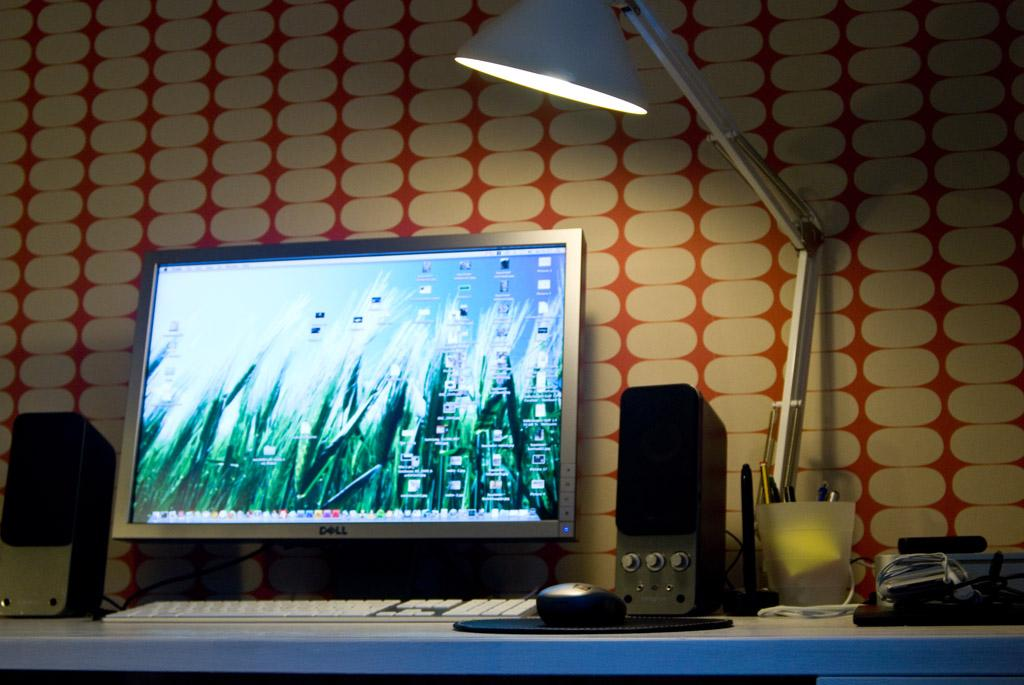computer: (105, 228, 587, 622)
